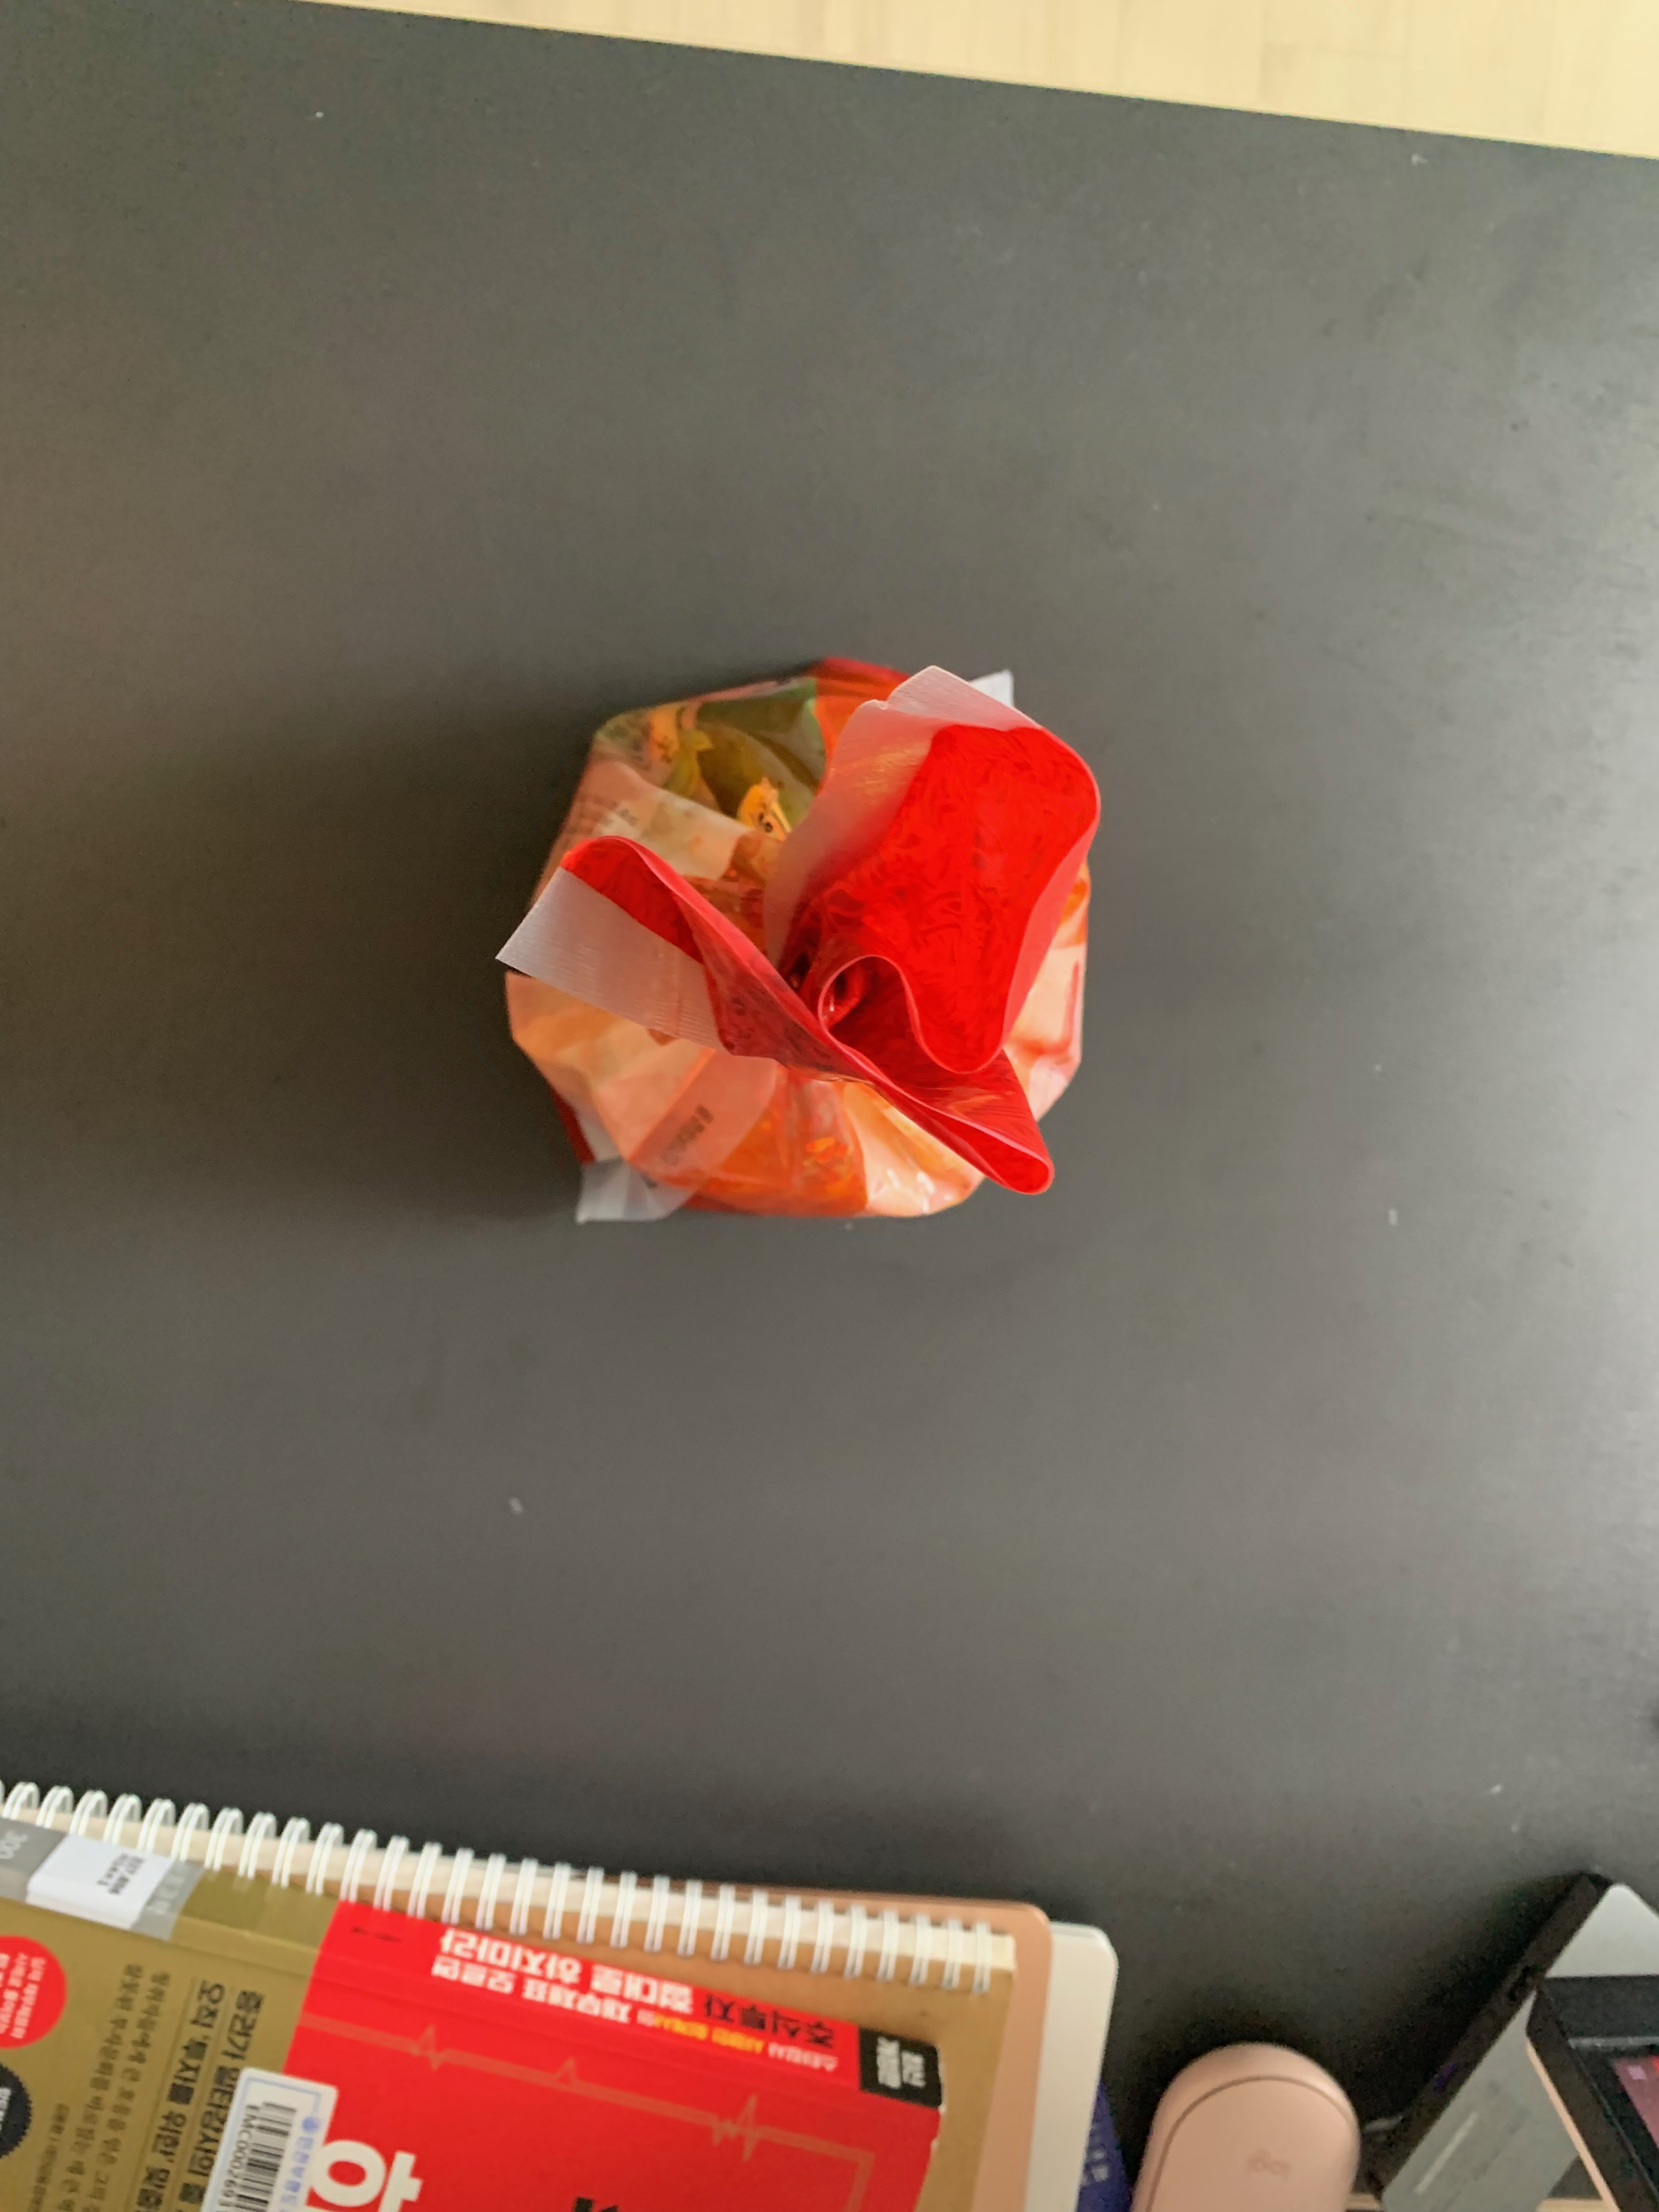kimchi: (504, 657, 1096, 1221)
